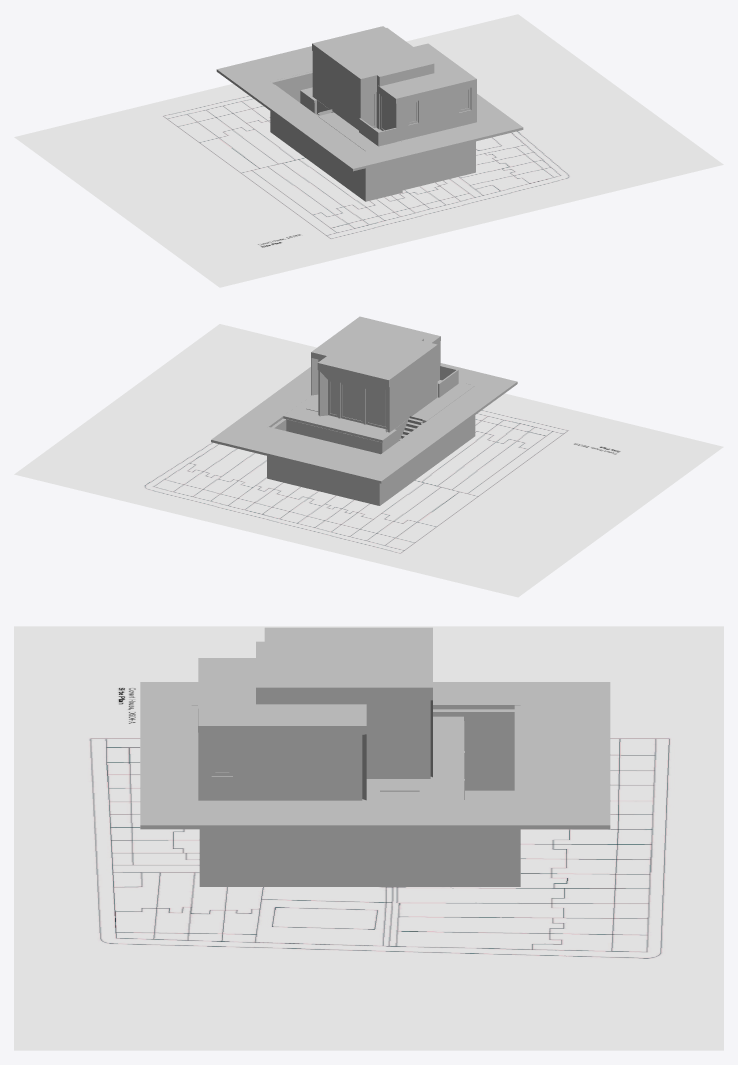
Rendered from ddd.obj.
3 renders of one model, top to bottom at view 1: azimuth 30°, elevation 25°; view 2: azimuth 150°, elevation 25°; view 3: azimuth 270°, elevation 25°, orthographic. The views are drawn at different scales.
Bounding box in the file's own units: 587 × 115 × 415.
